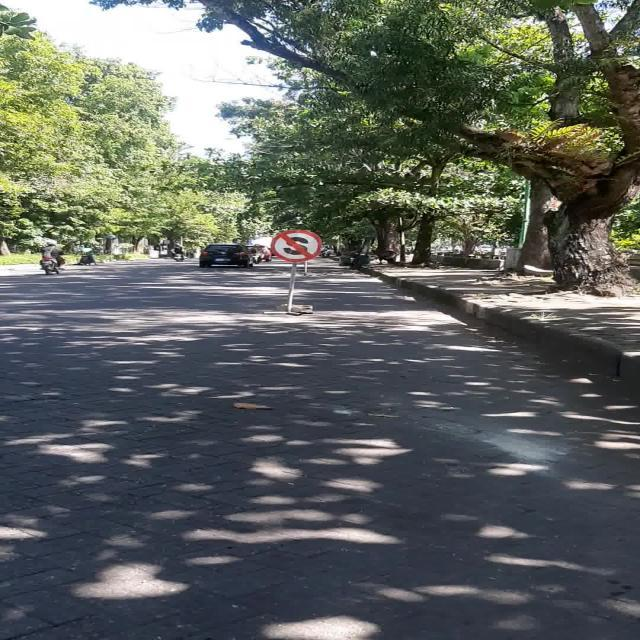Dilarang Berhenti: (270, 230, 322, 262)
